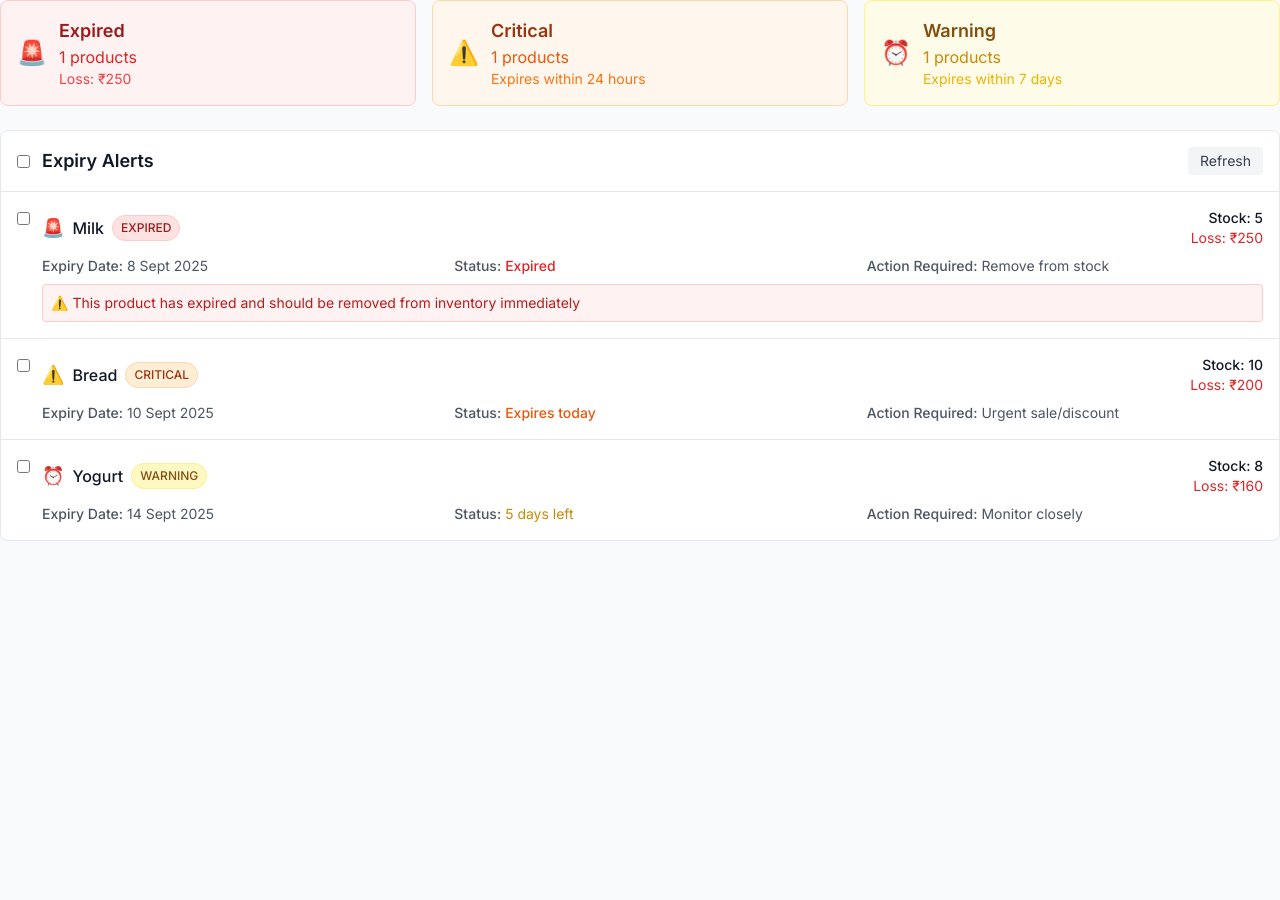
Test: ExpiryTrackingPanel › should disable remove expired button when no expired items selected
The width and height of the screenshot is (1280, 900).
// Select only non-expired alerts
Click the checkbox next to "Bread". click: click(24, 366)
box: [17,359,30,372]
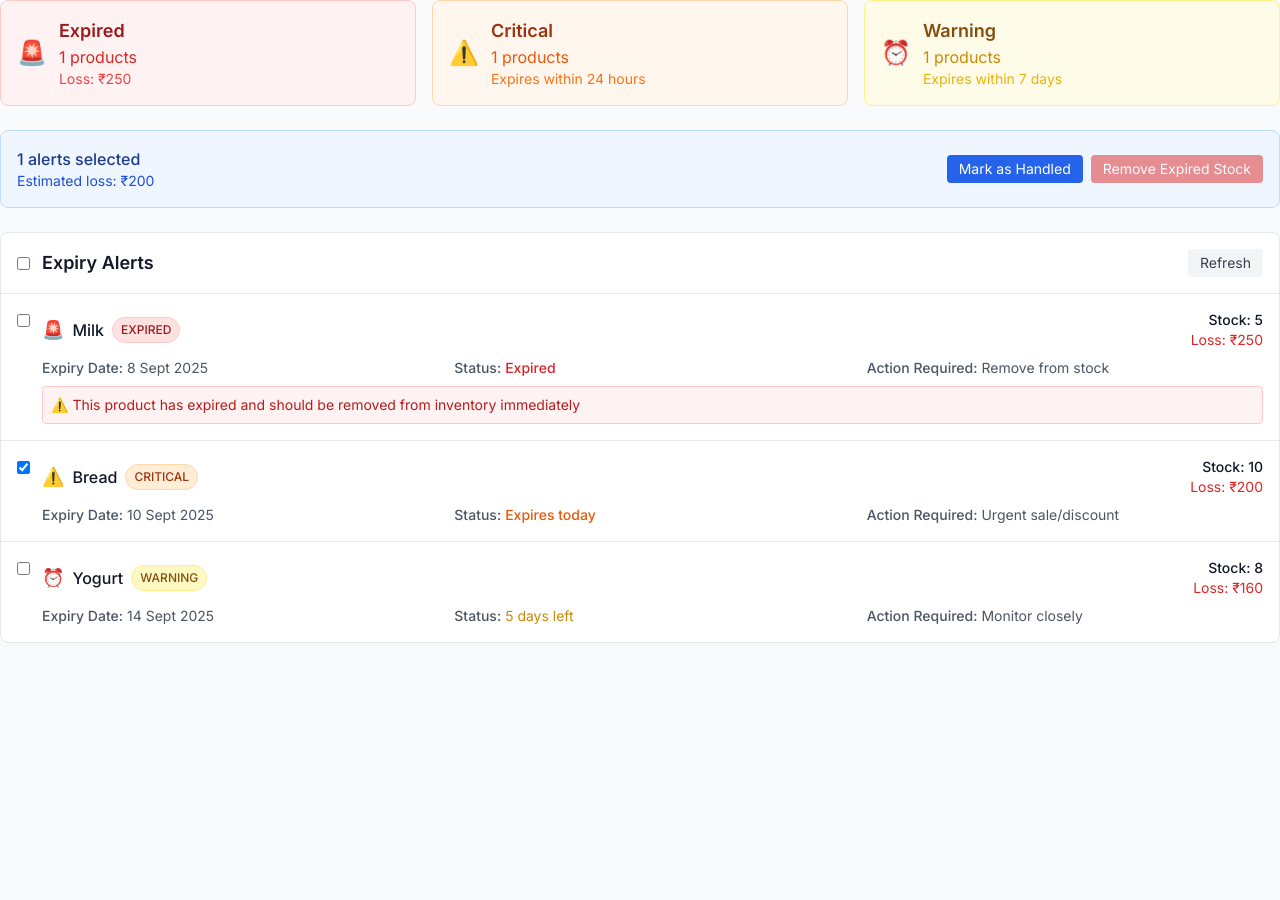
Now the button "Remove Expired Stock" is disabled, box [1091,155,1263,183]
